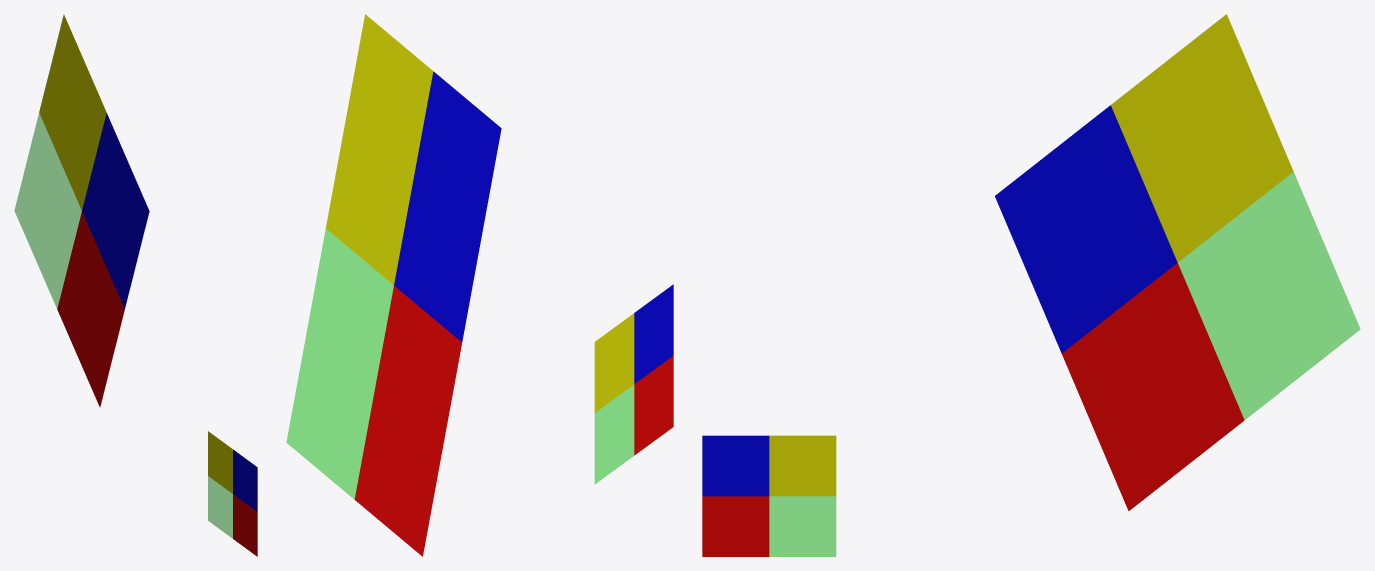
File: source-local.glb
3 views of the same model, side by side, from view 1: azimuth 30°, elevation 25°; view 2: azimuth 150°, elevation 25°; view 3: azimuth 270°, elevation 25° (orthographic). The views are drawn at different scales.
Parts seen in each view (by area): view 1: Panel A, Panel B; view 2: Panel A, Panel B; view 3: Panel A, Panel B.
Boxes of the visible parts, x1=… form: Panel A: x1=14, y1=14, x2=149, y2=407; Panel B: x1=208, y1=431, x2=257, y2=556; Panel A: x1=286, y1=14, x2=501, y2=556; Panel B: x1=594, y1=284, x2=673, y2=483; Panel A: x1=995, y1=14, x2=1360, y2=510; Panel B: x1=702, y1=435, x2=836, y2=556.
Bounding box in the file's own units: 8.88e-16 × 4.47 × 4.92.
1 material, 1 textured.
